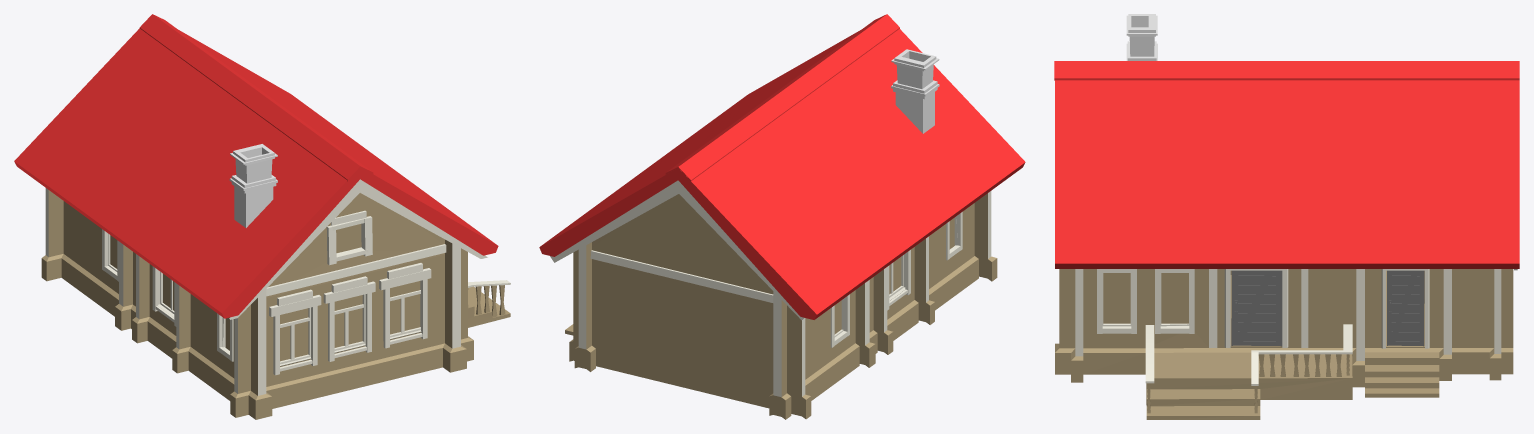
File: dom2.fbx
3 views of the same model, side by side, from view 1: azimuth 30°, elevation 25°; view 2: azimuth 150°, elevation 25°; view 3: azimuth 270°, elevation 25° (orthographic). The views are drawn at different scales.
Visible parts, largest first — view 1: крыша, Object001, декор, полпотолок, печь; view 2: крыша, Object001, декор, печь, полпотолок; view 3: крыша, Object001, декор, PivotDoor001, полпотолок, печь.
Boxes of the visible parts, left/top/right/bottom form: крыша: left=14, top=14, right=498, bottom=318; Object001: left=41, top=190, right=510, bottom=419; декор: left=45, top=179, right=510, bottom=395; полпотолок: left=110, top=224, right=420, bottom=361; печь: left=229, top=144, right=277, bottom=227; крыша: left=539, top=14, right=1025, bottom=319; Object001: left=565, top=193, right=997, bottom=419; декор: left=550, top=180, right=991, bottom=397; печь: left=891, top=49, right=939, bottom=133; полпотолок: left=834, top=218, right=954, bottom=334; крыша: left=1054, top=61, right=1519, bottom=268; Object001: left=1055, top=269, right=1513, bottom=419; декор: left=1075, top=269, right=1517, bottom=385; PivotDoor001: left=1231, top=270, right=1424, bottom=346; полпотолок: left=1103, top=270, right=1424, bottom=345; печь: left=1126, top=14, right=1157, bottom=60.
Size of the model in its own units: 514 by 340 by 557.
